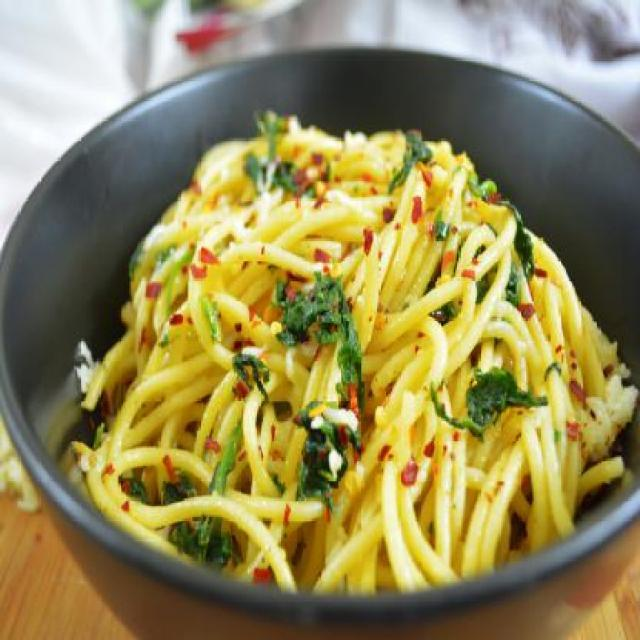Oil pasta: (83, 83, 577, 600)
